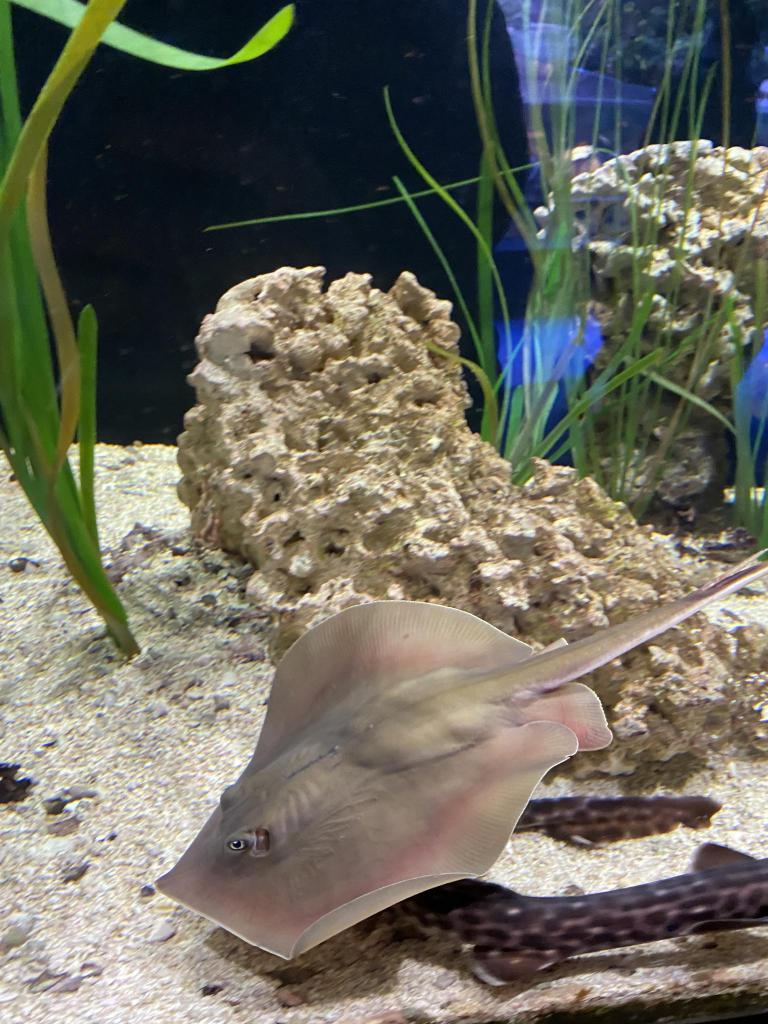shark: (365, 796, 767, 986)
stingray: (154, 601, 612, 959)
